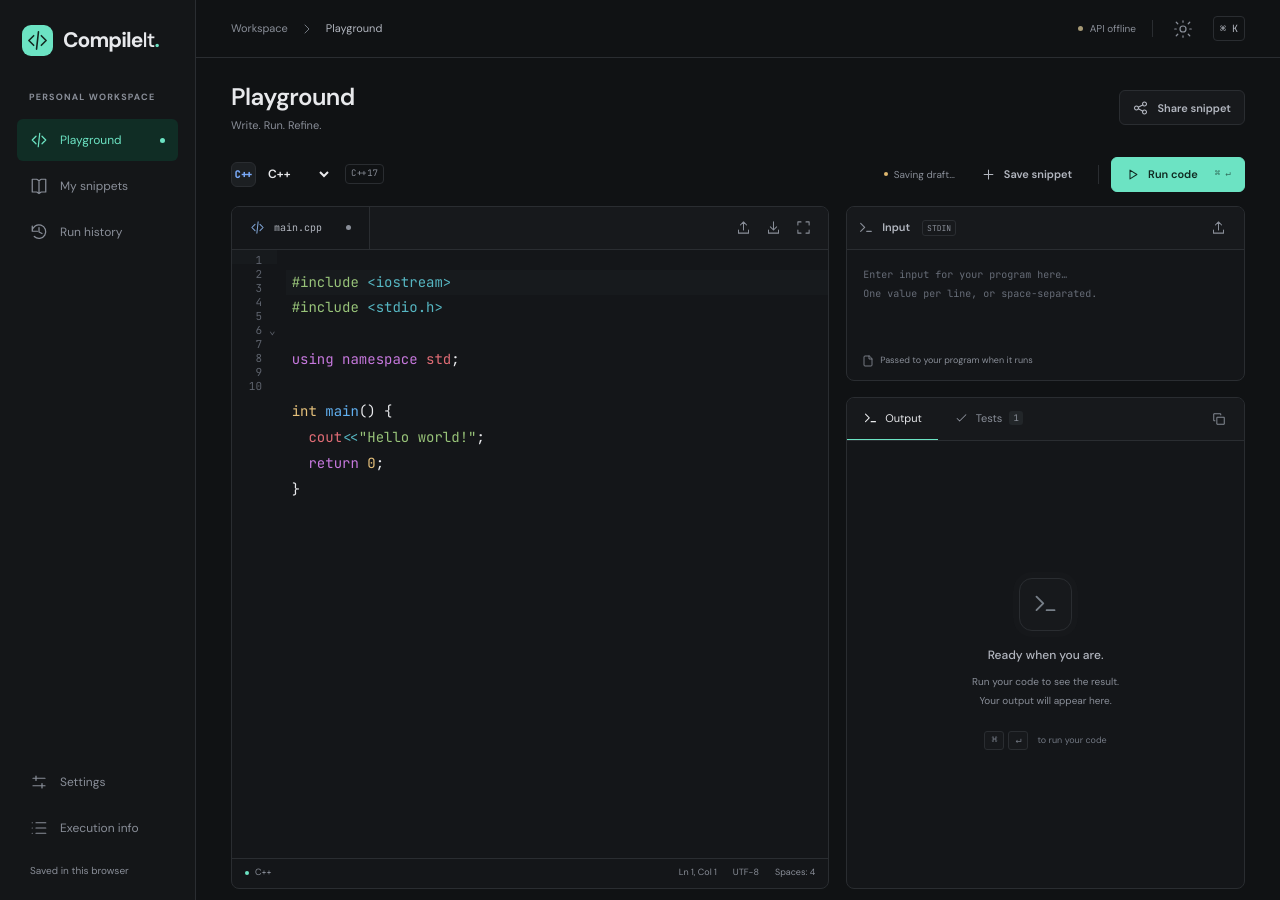
Test case: regression capture uses the submitted input, not subsequently edited input
Replace the text in the text box named "Standard input" with "original input" at coordinates (1046, 302), box [847,250,1244,354]
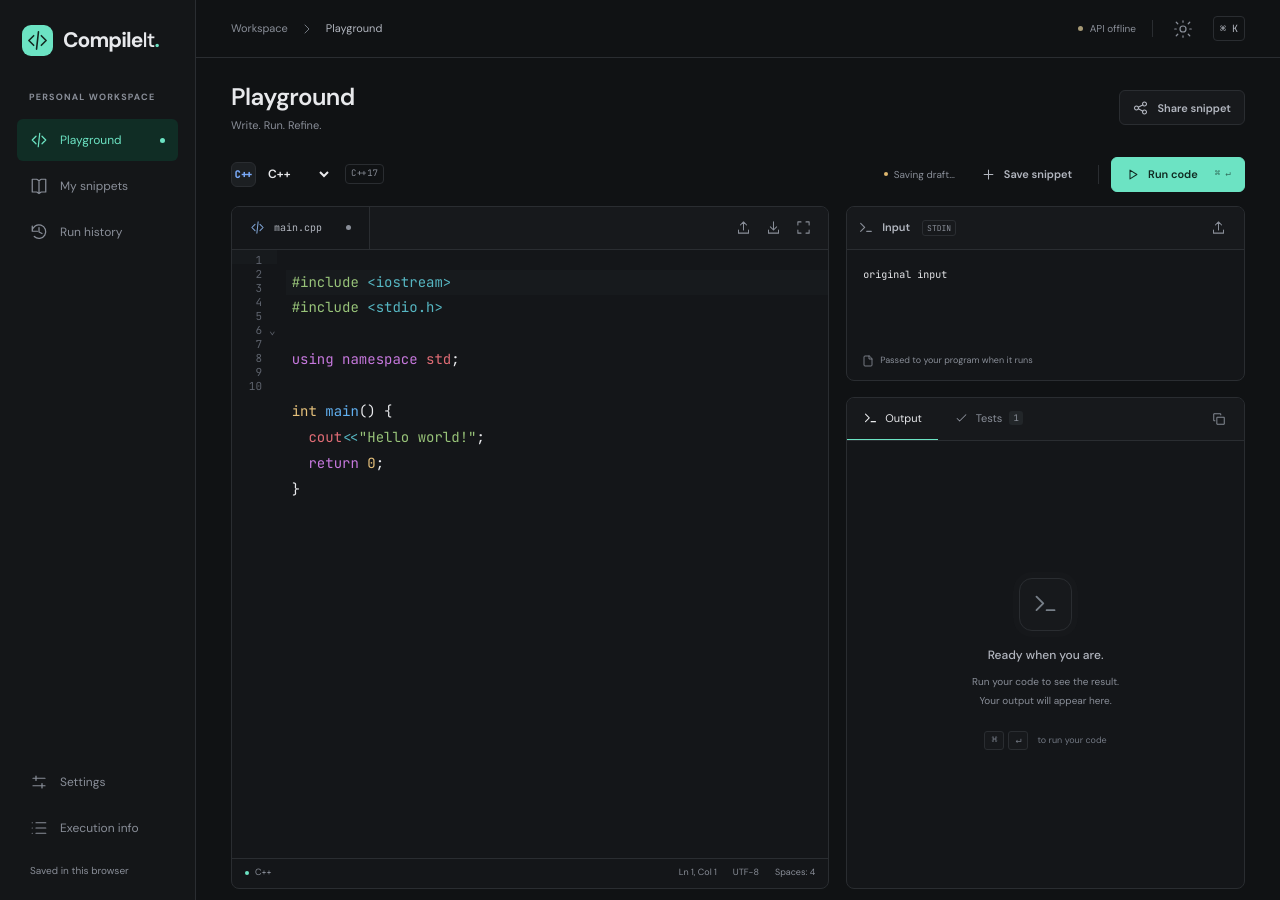
Click the button "Run code ⌘ ↵".
click(1178, 174)  # box [1111,156,1245,192]
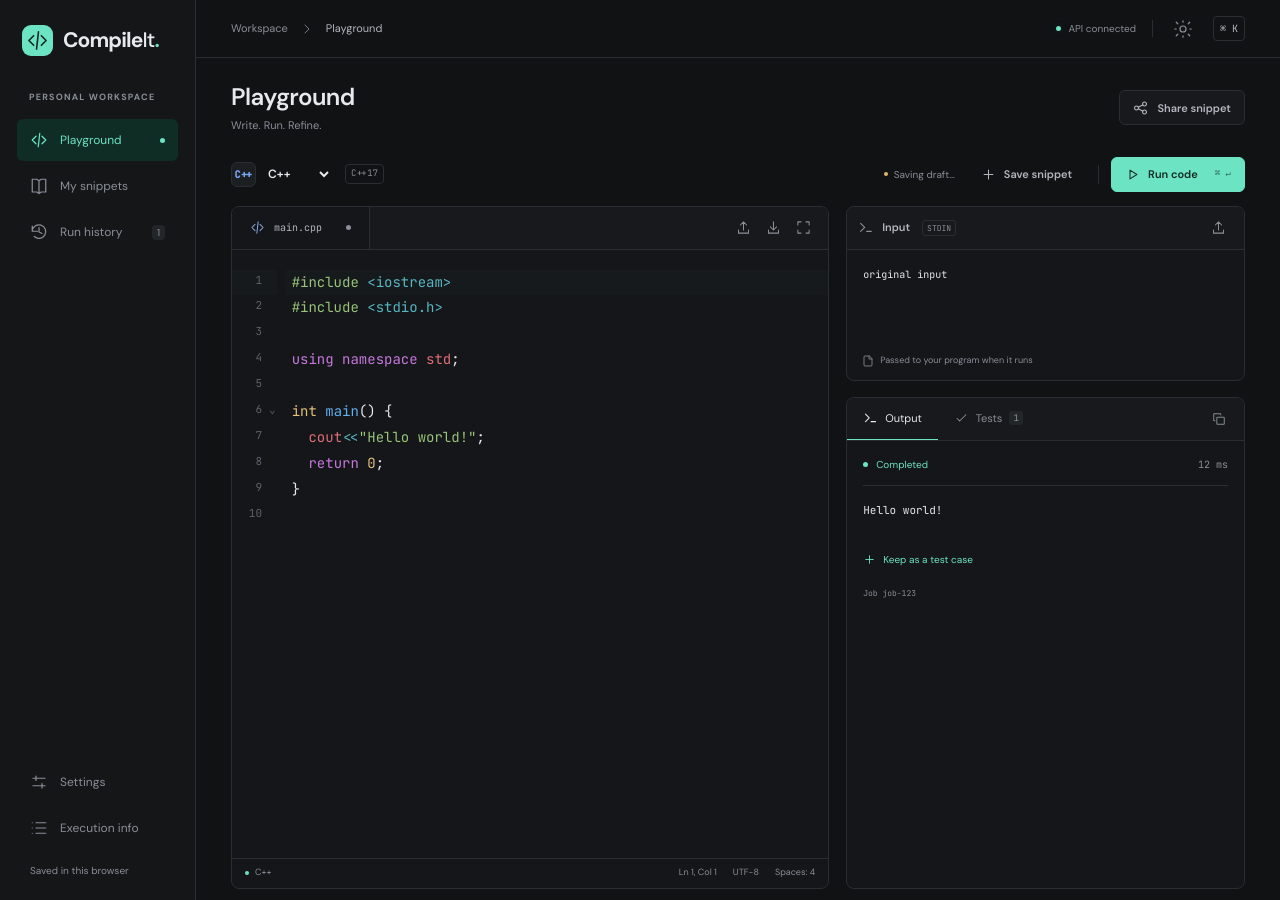
Result: the text "Completed" is shown at [876,458,928,470]
Replace the text in the text box named "Standard input" with "new input" at coordinates (1046, 302), box [847,250,1244,354]
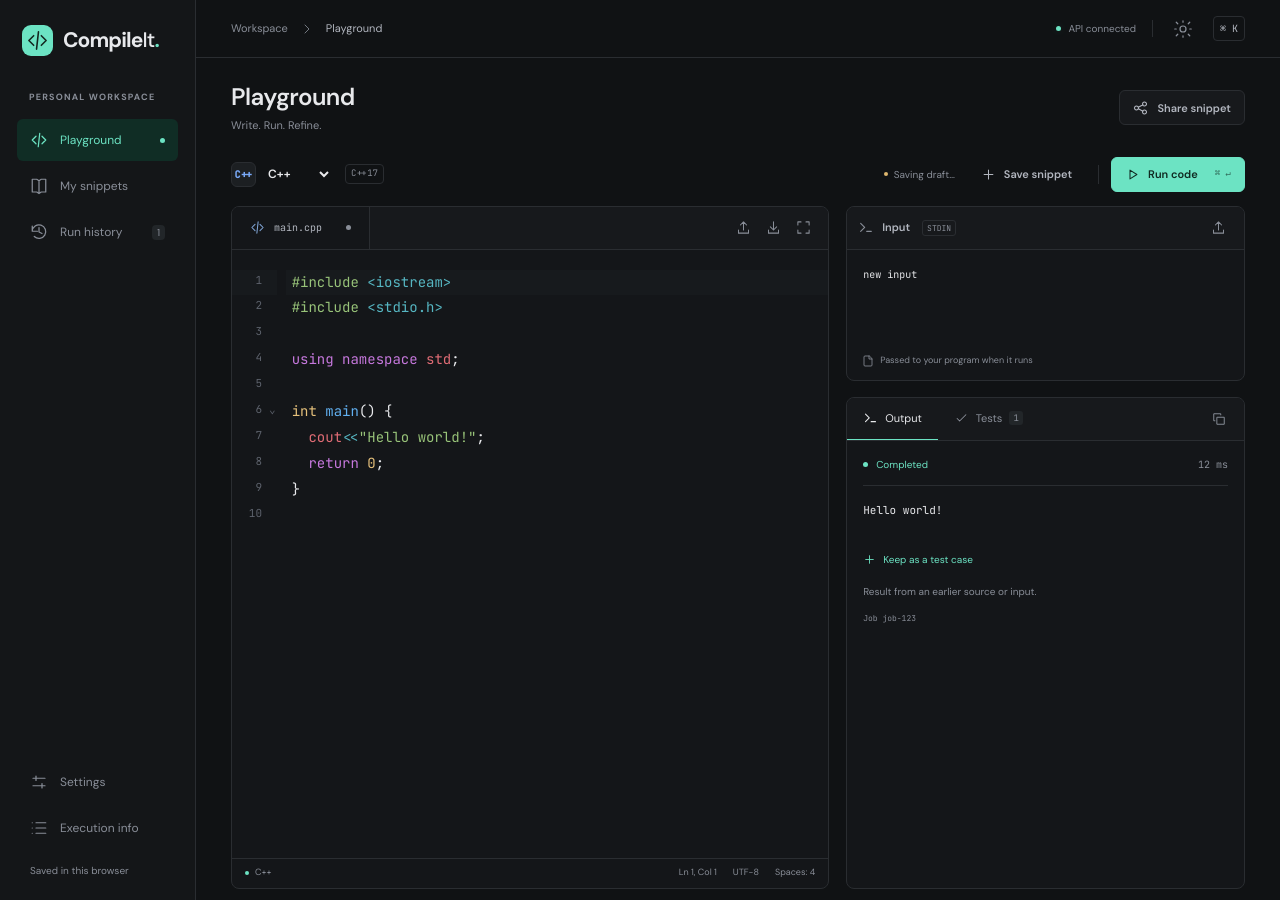
Click the button "Keep as a test case".
click(918, 560)  # box [863,545,973,574]
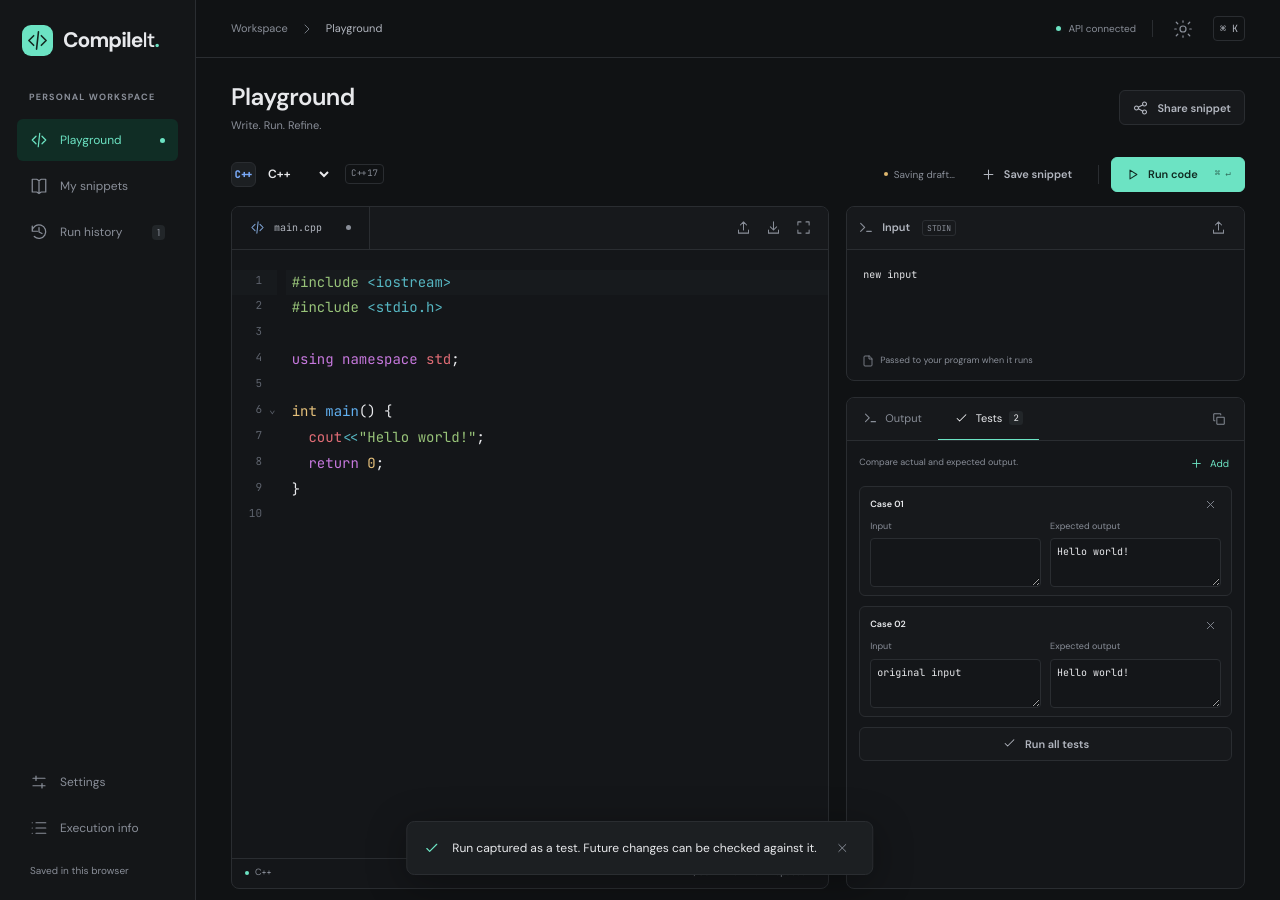
Result: the number of text boxes labelled "Expected output" is 2 at [1050,538,1221,587]; [1050,658,1221,708]
Result: the text box labelled "Expected output" below "02" holds "Hello world!" at [1050,658,1221,708]
Result: the text box labelled "Input" below "02" holds "original input" at [870,658,1041,708]
